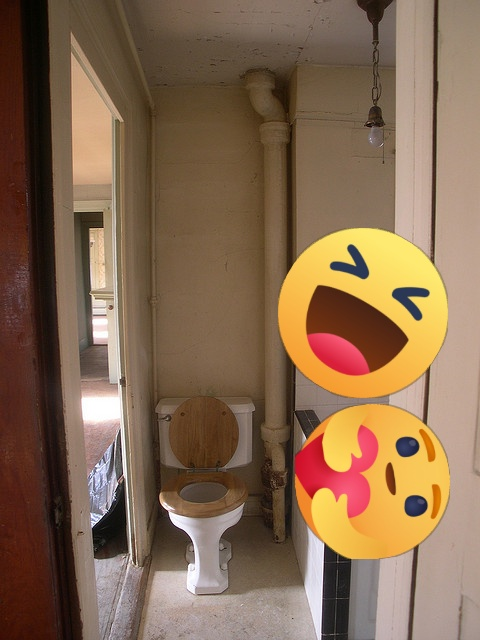care: (295, 404, 450, 559)
haha: (278, 228, 448, 398)
